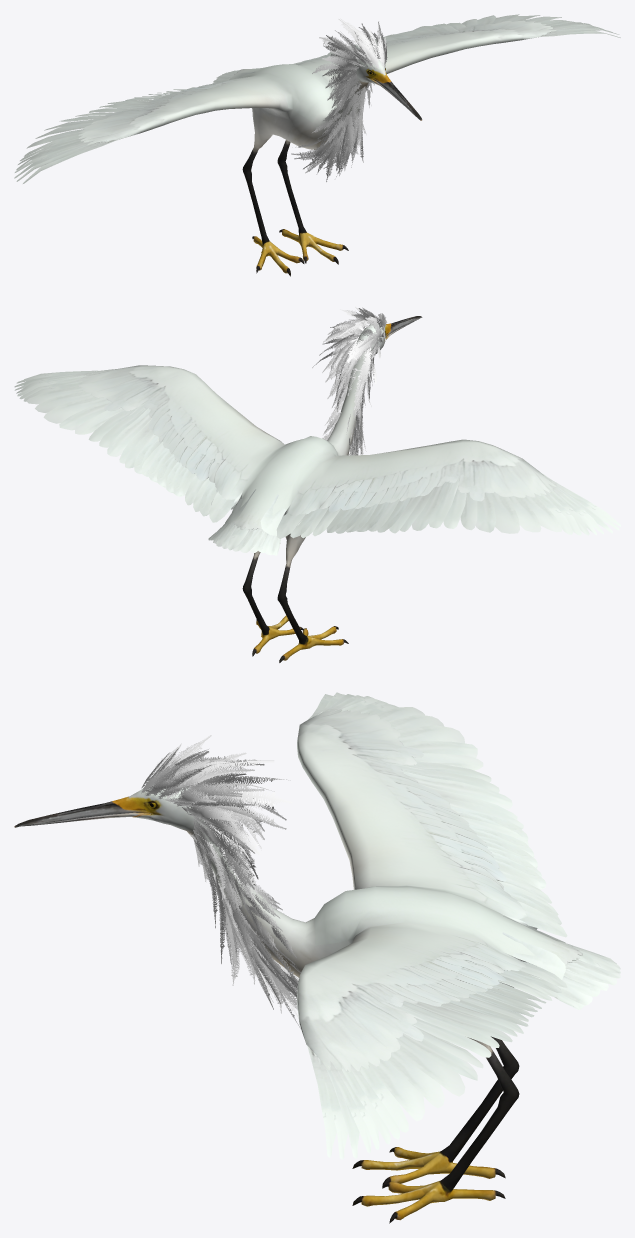
The model's file is egret.glb.
The picture shows the model from 3 angles, top to bottom: view 1: azimuth 30°, elevation 25°; view 2: azimuth 150°, elevation 25°; view 3: azimuth 270°, elevation 25°; orthographic projection. The views are drawn at different scales.
Parts seen in each view (by area): view 1: sm_3_0_0_1_5, sm_2_0_0_0_3; view 2: sm_3_0_0_1_5, sm_2_0_0_0_3; view 3: sm_3_0_0_1_5, sm_2_0_0_0_3.
Part boxes in pixels (x1,y1,x2,y2): sm_3_0_0_1_5: (14, 14, 620, 276); sm_2_0_0_0_3: (291, 18, 387, 181); sm_3_0_0_1_5: (14, 316, 620, 662); sm_2_0_0_0_3: (312, 307, 386, 455); sm_3_0_0_1_5: (14, 692, 620, 1223); sm_2_0_0_0_3: (141, 735, 301, 1028).
Size of the model in its own units: 1.31 by 0.5793 by 0.7235.
2 materials, 2 textured.
